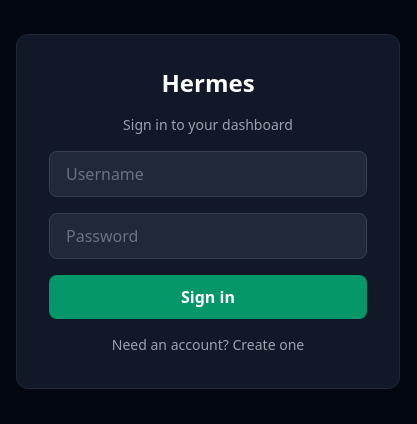
Test case: Login › shows an error on failure
The image size is (417, 424).
Type "admin" into the field labelled "Username".
click(208, 174); type("admin")  # box [49,150,367,196]
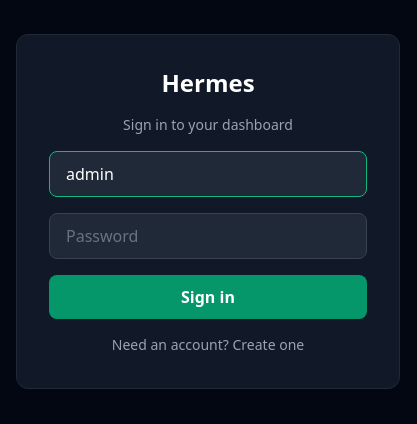
Type "bad" into the password field labelled "Password".
click(208, 236); type("bad")  # box [49,212,367,258]
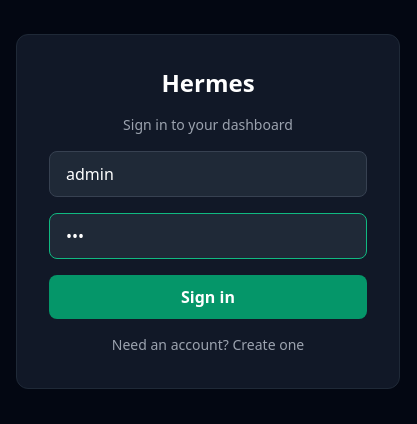
Click the button "Sign in".
click(208, 296)  # box [49,274,367,318]
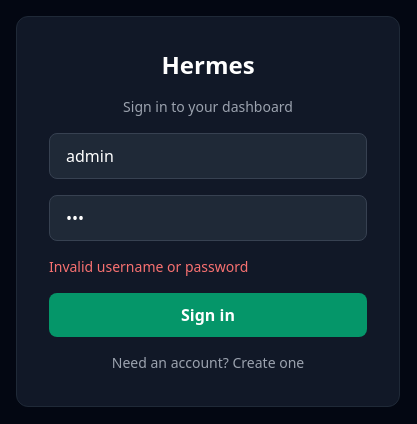
Expected: the message shows "Invalid", [49,256,248,276]
